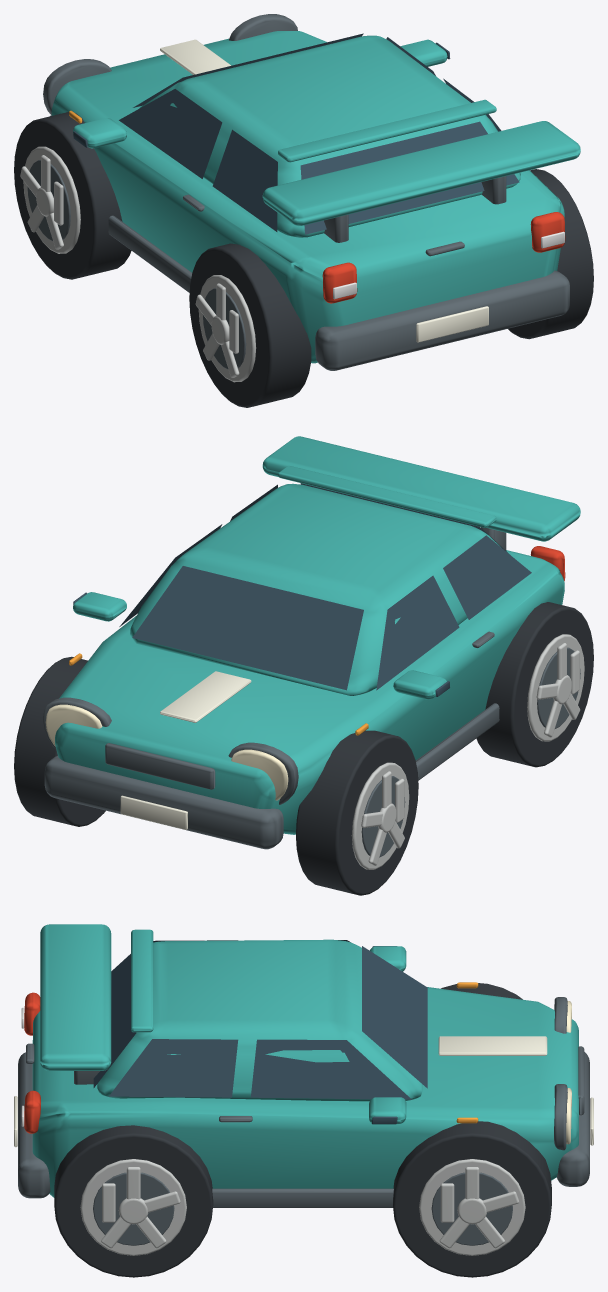
The model's file is coupe_car.fbx.
3 renders of one model, top to bottom at view 1: azimuth 30°, elevation 25°; view 2: azimuth 150°, elevation 25°; view 3: azimuth 270°, elevation 25°, orthographic. The views are drawn at different scales.
Parts seen in each view (by area): view 1: Body, Tyre.001, Tyre, Tyre.003, AlloyRim, AlloyRim.001, DarkInset, DarkInset.001; view 2: Body, Tyre, Tyre.001, Tyre.002, AlloyRim, AlloyRim.001, DarkInset.001, DarkInset; view 3: Body, Tyre.002, Tyre.003, AlloyRim.002, AlloyRim.003, DarkInset.003, DarkInset.002, Hub.002, Hub.003, Spoke.014, Tyre, Spoke.019 (+4 smaller).
Boxes of the visible parts, x1=… form: Body: x1=43, y1=14, x2=580, y2=370; Tyre.001: x1=189, y1=243, x2=311, y2=407; Tyre: x1=14, y1=112, x2=131, y2=279; Tyre.003: x1=508, y1=169, x2=593, y2=339; AlloyRim: x1=23, y1=146, x2=80, y2=253; AlloyRim.001: x1=198, y1=275, x2=256, y2=382; DarkInset: x1=27, y1=160, x2=70, y2=240; DarkInset.001: x1=202, y1=288, x2=246, y2=369; Body: x1=43, y1=436, x2=580, y2=849; Tyre: x1=296, y1=730, x2=418, y2=895; Tyre.001: x1=476, y1=602, x2=593, y2=767; Tyre.002: x1=14, y1=656, x2=105, y2=826; AlloyRim: x1=351, y1=762, x2=409, y2=869; AlloyRim.001: x1=527, y1=634, x2=584, y2=741; DarkInset.001: x1=537, y1=647, x2=580, y2=728; DarkInset: x1=361, y1=776, x2=405, y2=857; Body: x1=14, y1=924, x2=593, y2=1207; Tyre.002: x1=393, y1=1121, x2=551, y2=1277; Tyre.003: x1=54, y1=1125, x2=213, y2=1277; AlloyRim.002: x1=419, y1=1159, x2=525, y2=1255; AlloyRim.003: x1=80, y1=1159, x2=186, y2=1255; DarkInset.003: x1=93, y1=1172, x2=174, y2=1245; DarkInset.002: x1=431, y1=1172, x2=512, y2=1245; Hub.002: x1=457, y1=1198, x2=486, y2=1224; Hub.003: x1=118, y1=1198, x2=148, y2=1224; Spoke.014: x1=440, y1=1183, x2=454, y2=1222; Tyre: x1=441, y1=983, x2=522, y2=999; Spoke.019: x1=102, y1=1183, x2=115, y2=1222.
Size of the model in its own units: 217 by 132 by 310.
